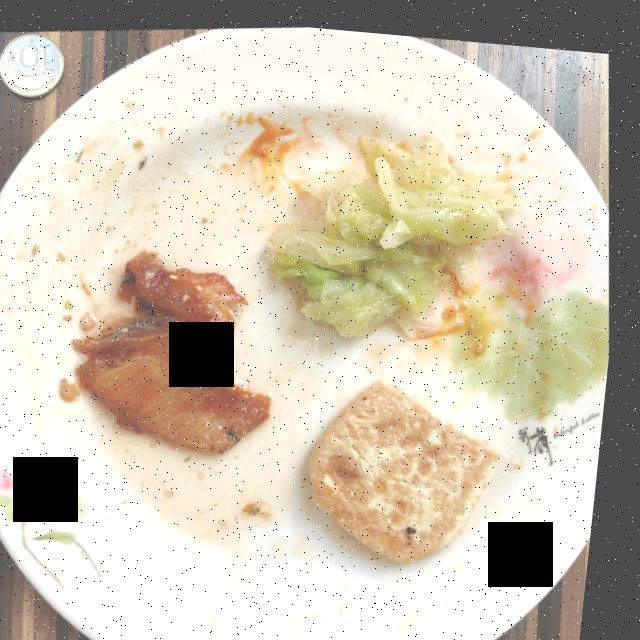Kabayaki sea bream fillet: (80, 248, 279, 447)
cabbage: (272, 127, 522, 330)
coin: (0, 32, 64, 96)
